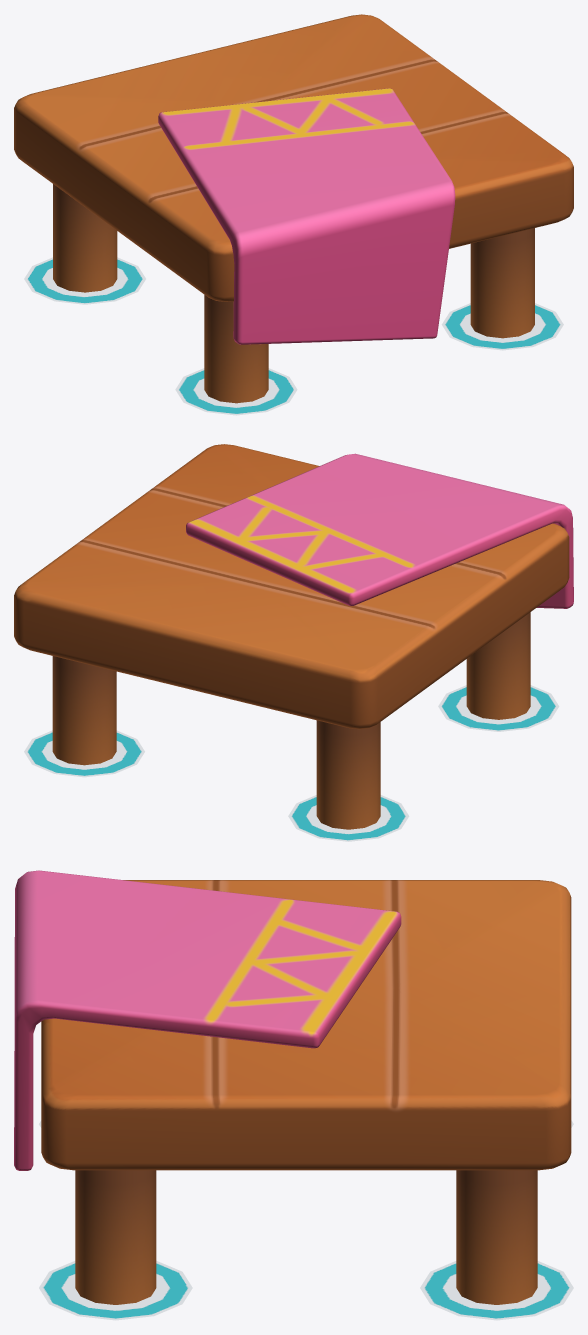
The model's file is E_Table.fbx.
3 views of the same model, one above another, from view 1: azimuth 30°, elevation 25°; view 2: azimuth 150°, elevation 25°; view 3: azimuth 270°, elevation 25° (orthographic). The views are drawn at different scales.
Parts seen in each view (by area): view 1: pCube45, pPlane33, group41_pCylinder50; view 2: pCube45, pPlane33, group41_pCylinder50; view 3: pCube45, pPlane33, group41_pCylinder50.
Boxes of the visible parts, box(x1,y1,x2,y2) form: pCube45: box(14, 14, 573, 403); pPlane33: box(158, 88, 455, 344); group41_pCylinder50: box(24, 257, 563, 415); pCube45: box(14, 444, 569, 829); pPlane33: box(186, 453, 573, 608); group41_pCylinder50: box(24, 685, 559, 841); pCube45: box(41, 880, 571, 1304); pPlane33: box(14, 870, 401, 1170); group41_pCylinder50: box(39, 1120, 573, 1320).
Size of the model in its own units: 186 by 89.19 by 192.
